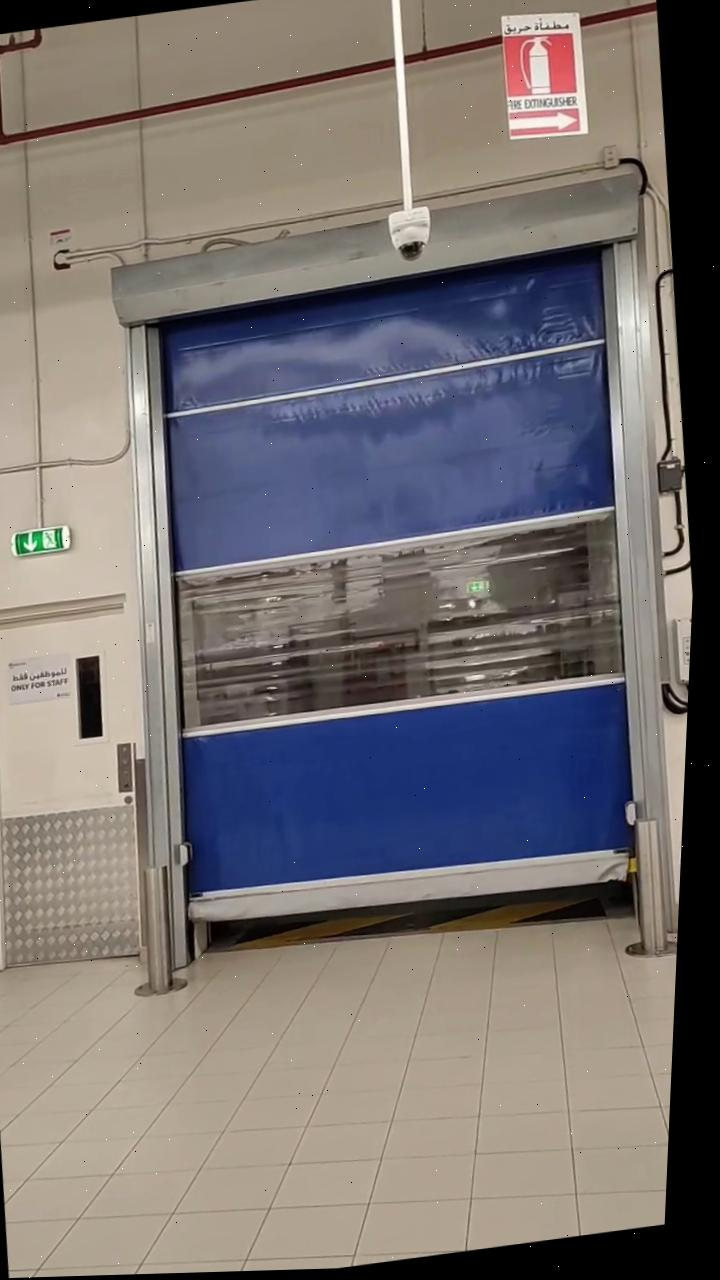Strip: (242, 876, 606, 967)
